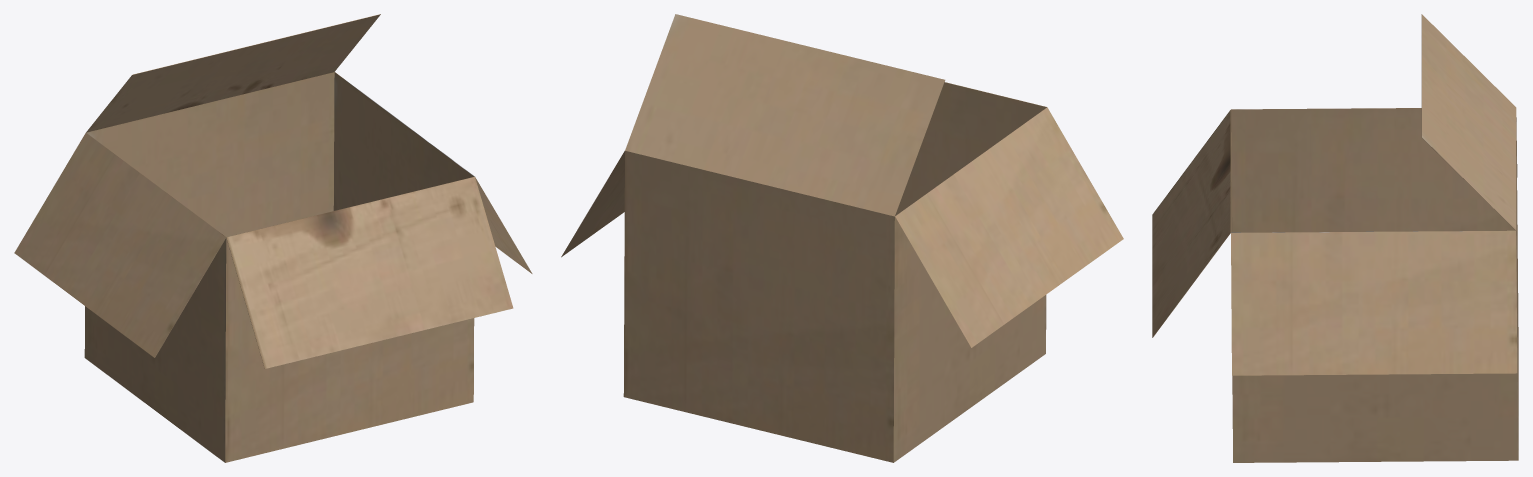
The picture shows the model from 3 angles, left to right: view 1: azimuth 30°, elevation 25°; view 2: azimuth 150°, elevation 25°; view 3: azimuth 270°, elevation 25°; orthographic projection. The views are drawn at different scales.
Parts seen in each view (by area): view 1: Box 1; view 2: Box 1; view 3: Box 1.
Part boxes in pixels (left/top/right/bottom): Box 1: left=14, top=14, right=532, bottom=462; Box 1: left=561, top=14, right=1123, bottom=462; Box 1: left=1152, top=14, right=1518, bottom=462.
Size of the model in its own units: 0.5566 by 0.4507 by 0.4593.
1 material, 1 textured.
